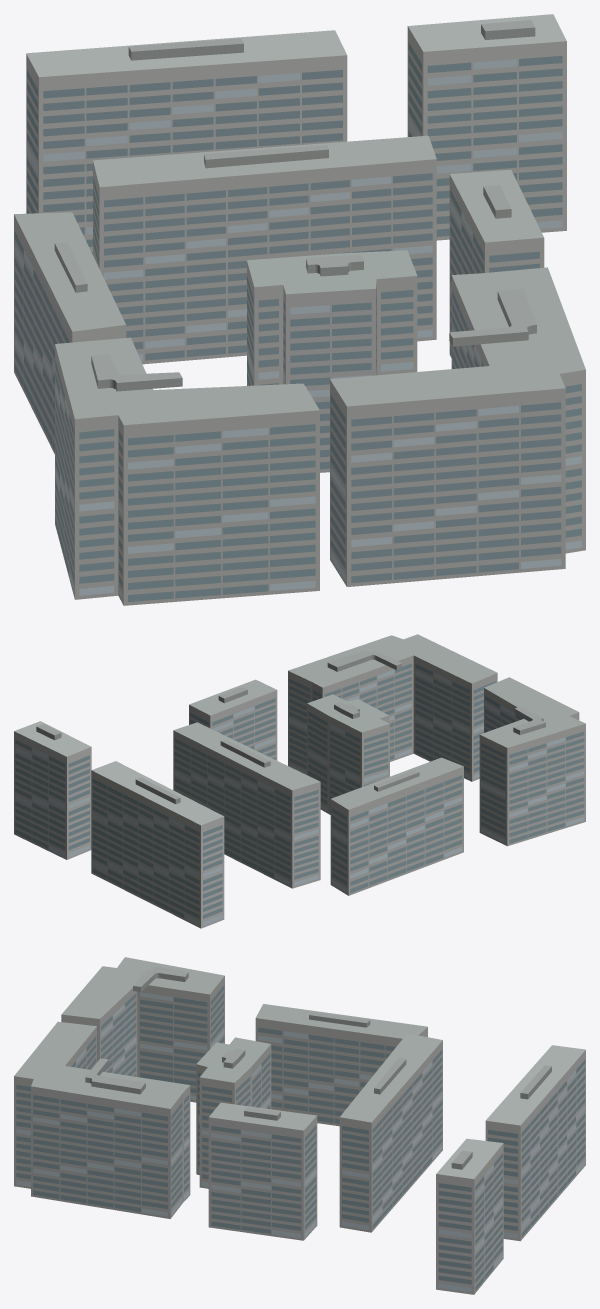
The model's file is apt-a13811205.glb.
3 renders of one model, top to bottom at view 1: azimuth 30°, elevation 25°; view 2: azimuth 150°, elevation 25°; view 3: azimuth 270°, elevation 25°, orthographic. The views are drawn at different scales.
Parts seen in each view (by area): view 1: apt-a13811205; view 2: apt-a13811205; view 3: apt-a13811205.
Boxes of the visible parts, <box> form: apt-a13811205: <box>14,14,585,605</box>; apt-a13811205: <box>14,634,585,928</box>; apt-a13811205: <box>14,957,585,1294</box>.
Bounding box in the file's own units: 169 × 42 × 180.
